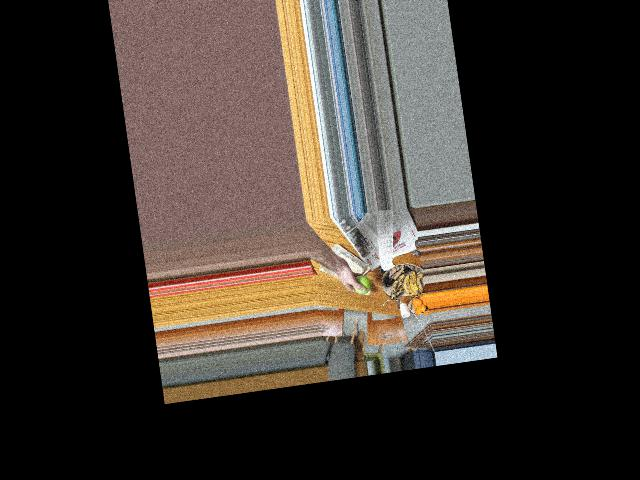apple: (351, 273, 372, 296)
